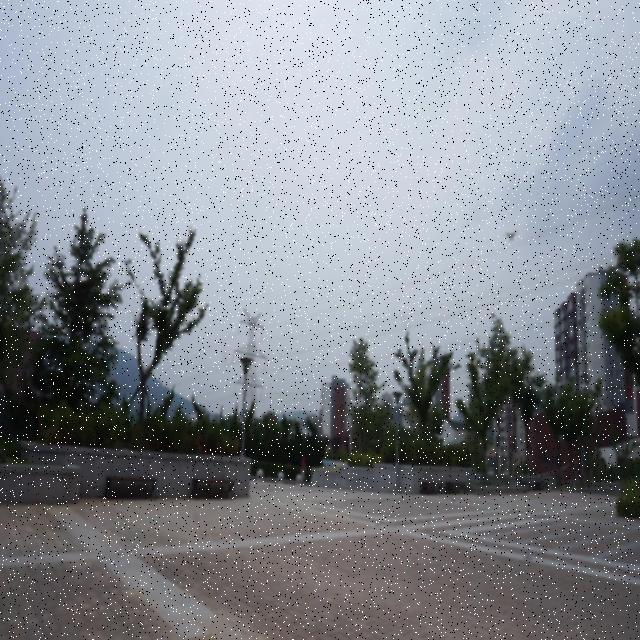UAV: (504, 230, 519, 242)
